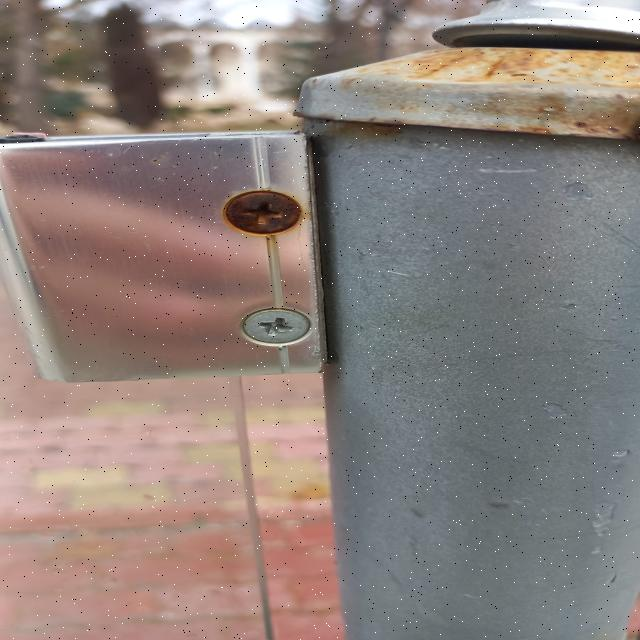Phillips: (208, 188, 302, 242), (229, 306, 317, 352)
